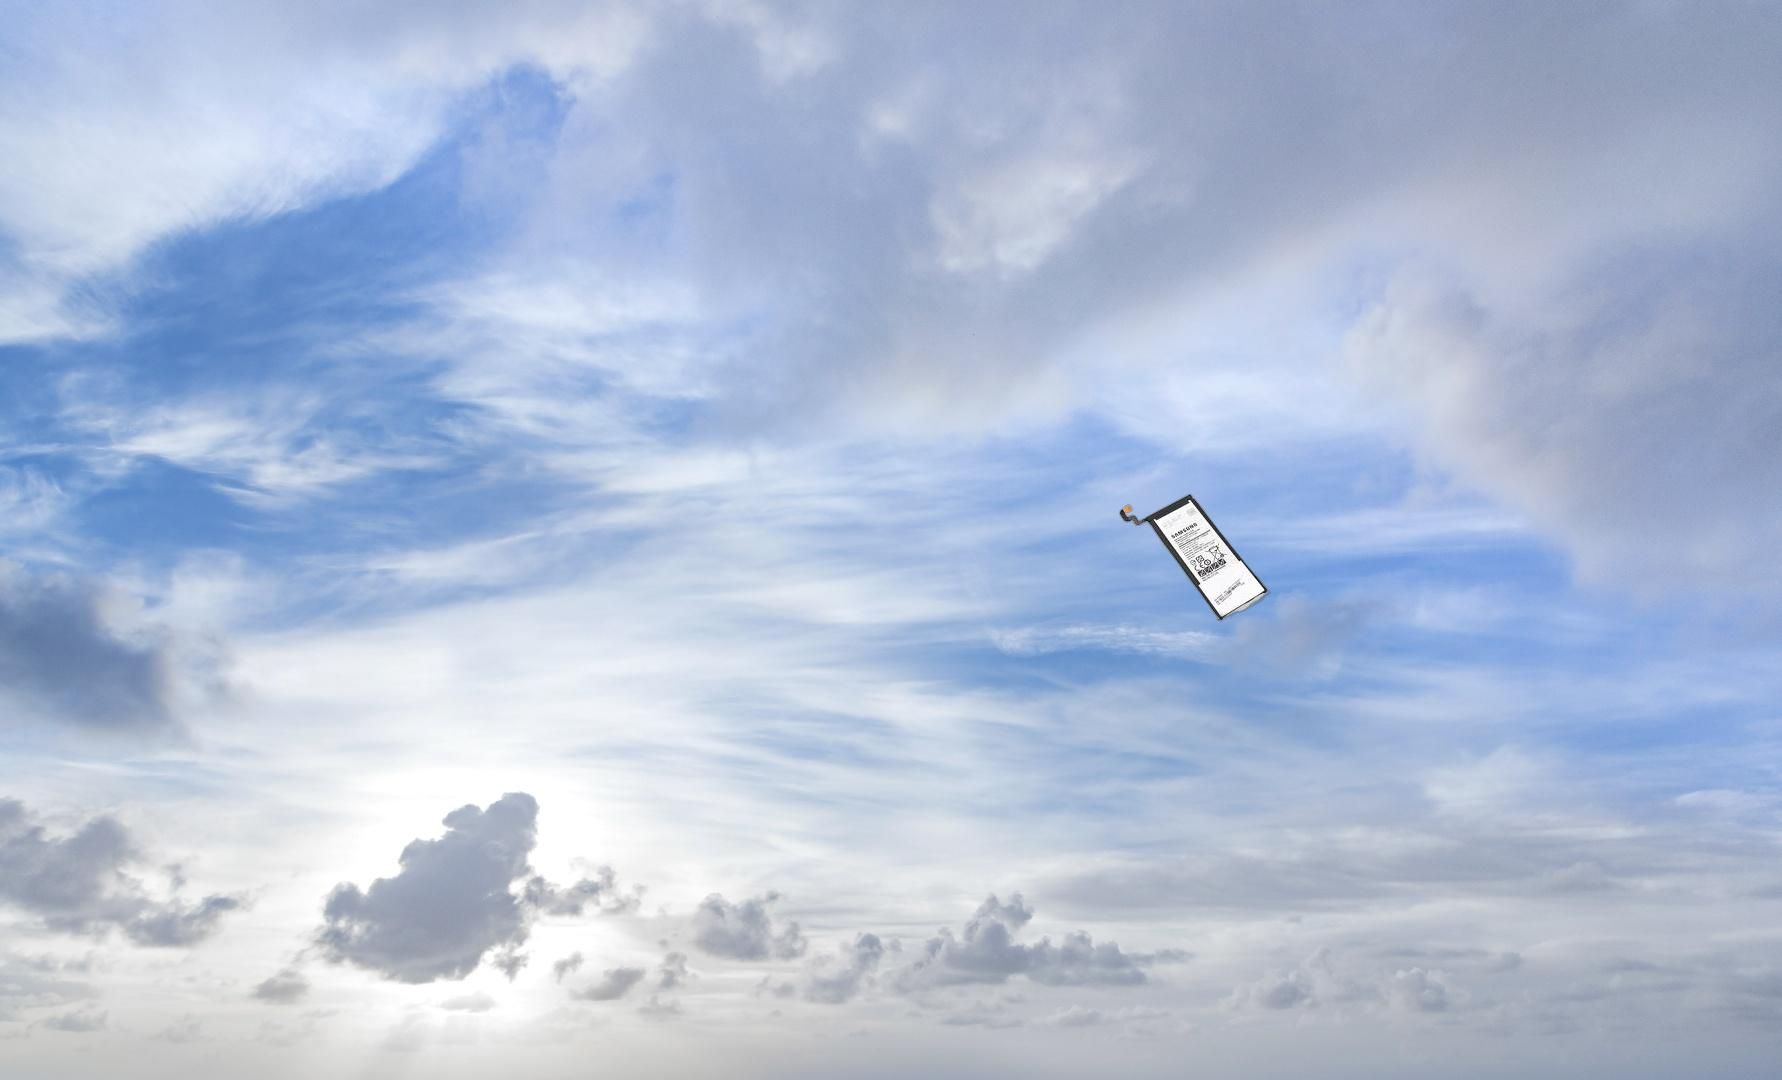battery: (1118, 492, 1273, 624)
